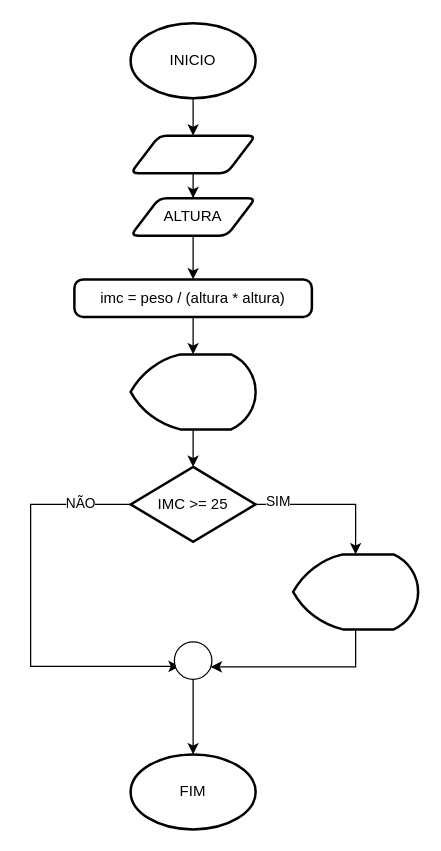
Some shapes in this 441 by 851 pixel diagram are drawn without their labels. The shapes that lost their labels are listed below. From the top down, each one's box as (x1, y1, x2, y2) in pixels, then its label:
(129, 134, 256, 174): PESO
(129, 352, 256, 430): RESULTADO
(291, 552, 419, 630): Indice acima
